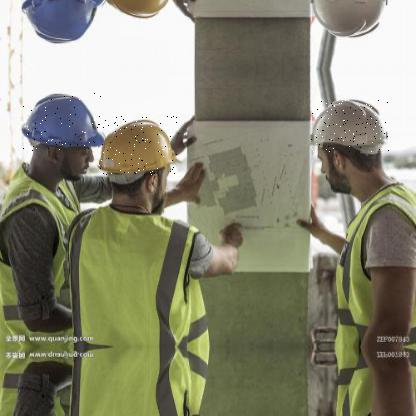safetyhelmet: (21, 94, 105, 154), (98, 116, 180, 176), (310, 100, 390, 154)
